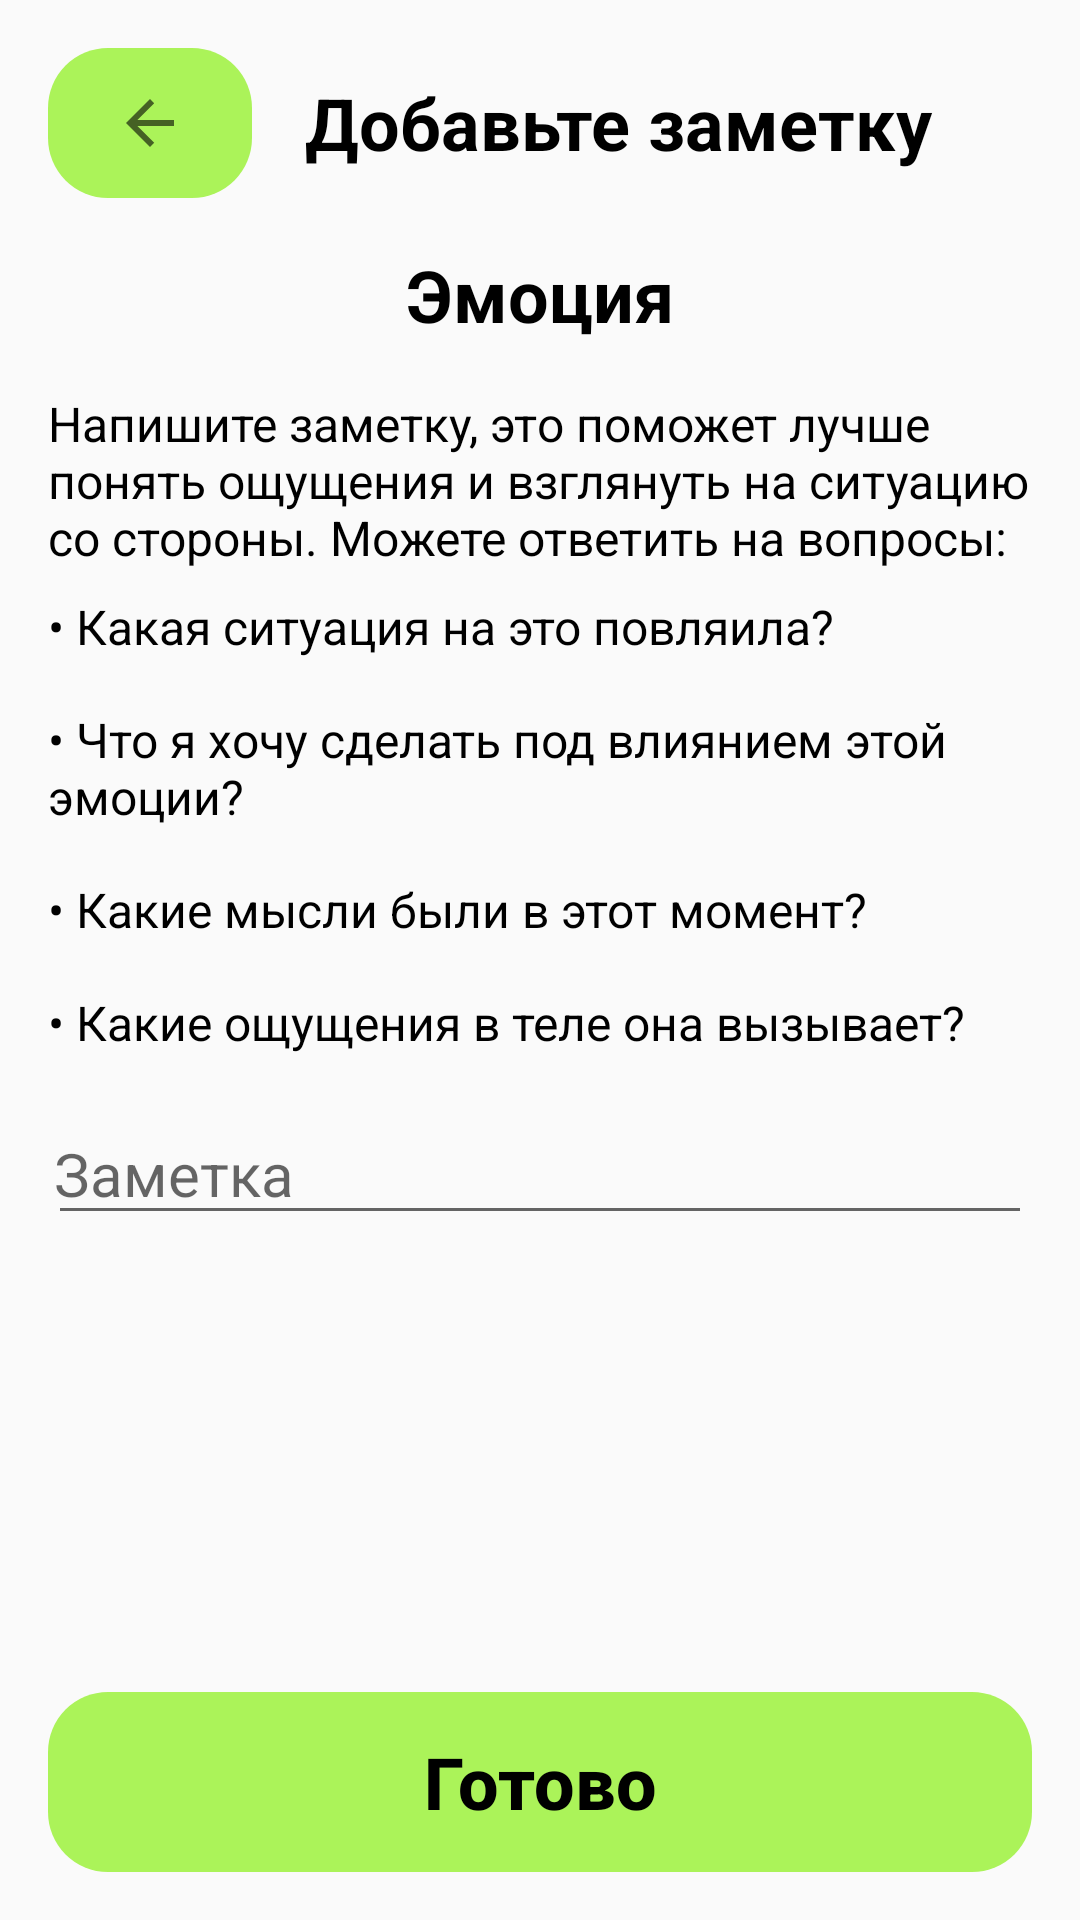

Locate icon controls on the screen. Image size 1080 × 1920, boxes as [left=x1, top=y1, right=x2, bottom=y2].
Назад: [left=48, top=48, right=252, bottom=198]
